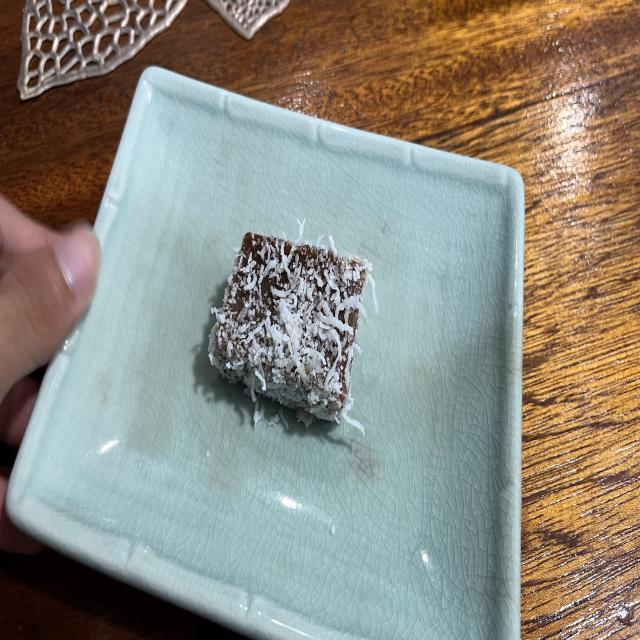kaswi: (209, 222, 378, 433)
